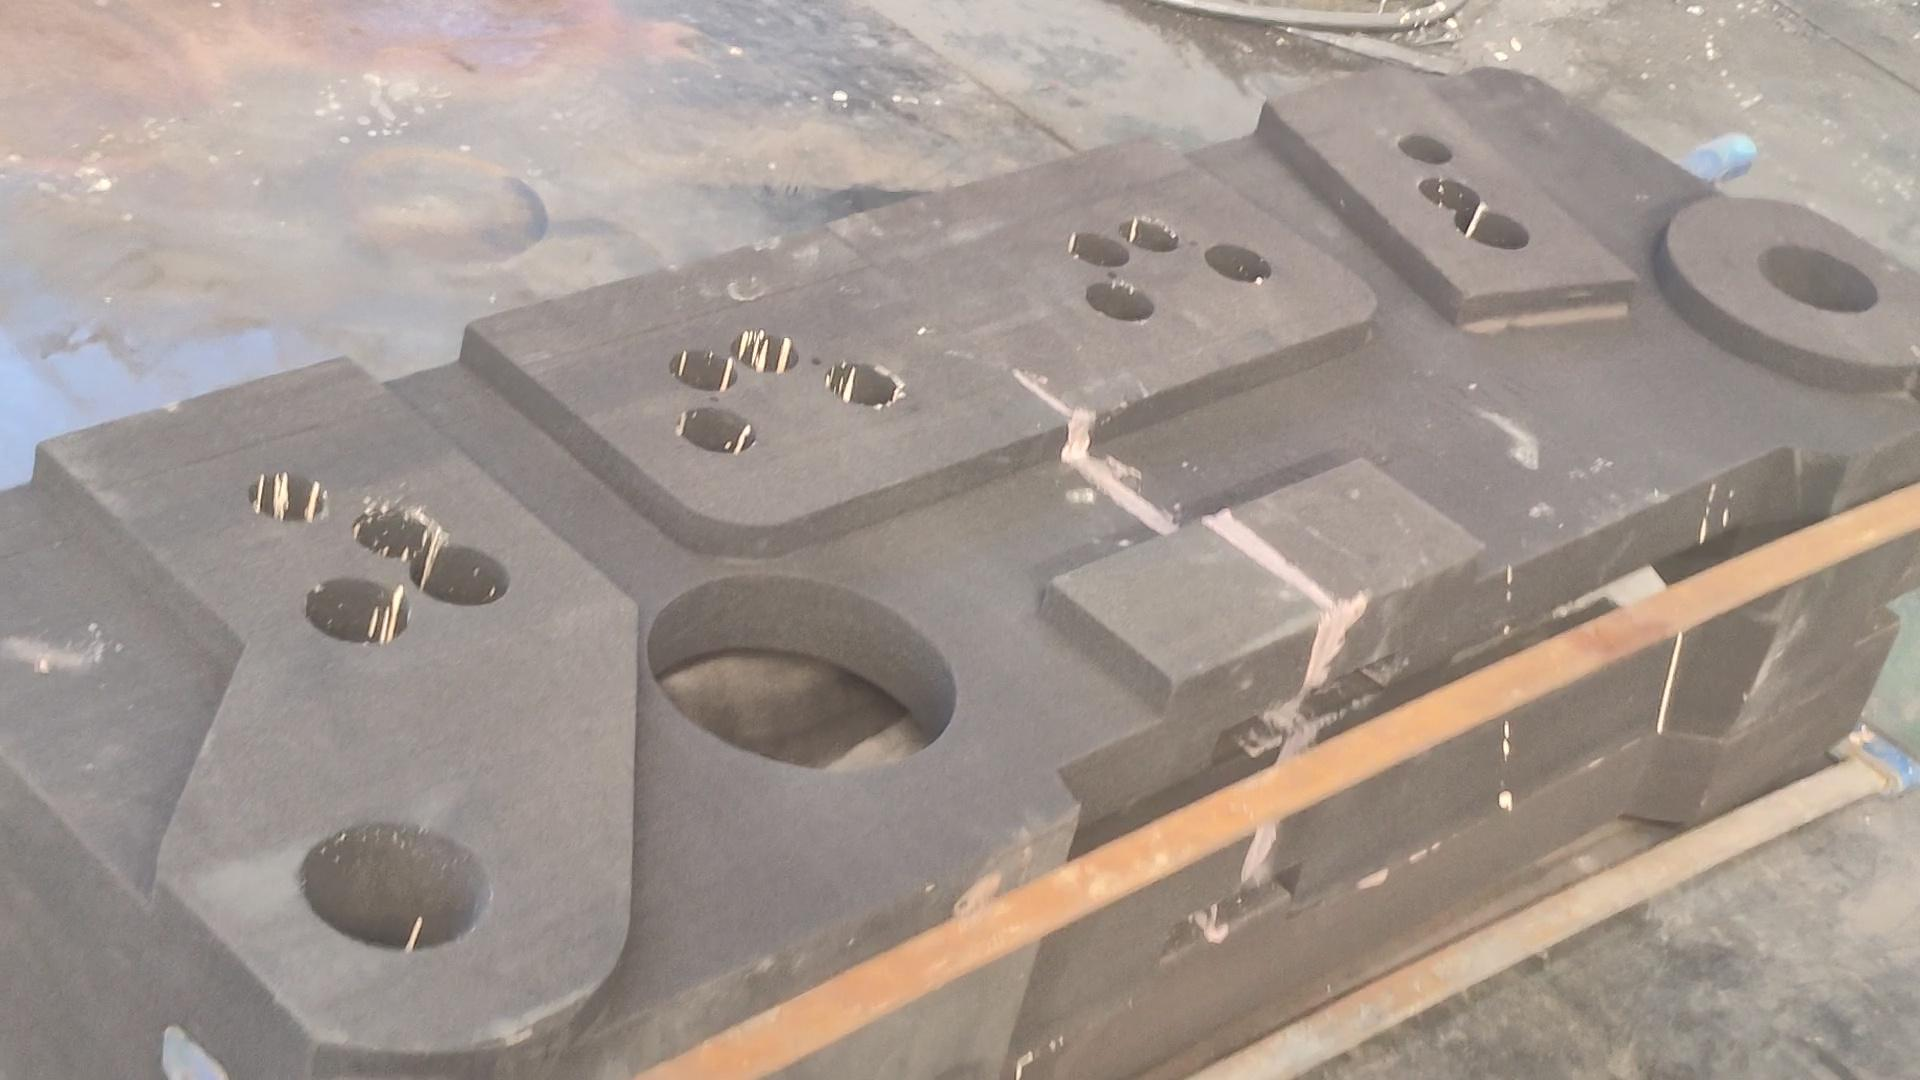pouring hole: (297, 820, 491, 949), (1756, 243, 1880, 314)
